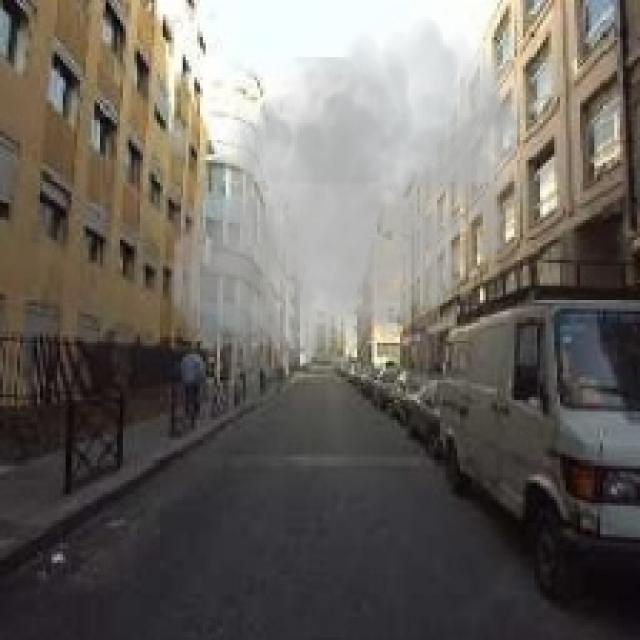smoke: (160, 3, 534, 383)
